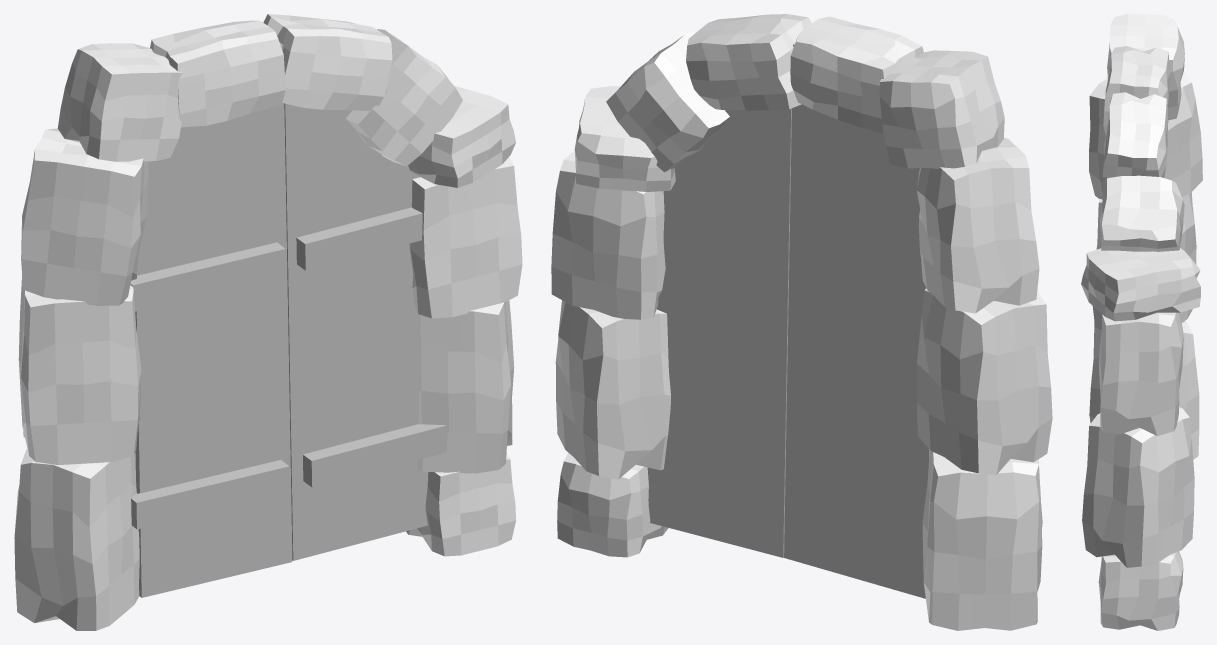
Rendered from Steinbogentor 1.fbx.
The picture shows the model from 3 angles, left to right: view 1: azimuth 30°, elevation 25°; view 2: azimuth 150°, elevation 25°; view 3: azimuth 270°, elevation 25°; orthographic projection. The views are drawn at different scales.
Parts seen in each view (by area): view 1: Steinblock.016; view 2: Steinblock.016; view 3: Steinblock.016.
Boxes of the visible parts, x1,y1,x2,y2 form: Steinblock.016: [14, 14, 522, 630]; Steinblock.016: [551, 14, 1052, 630]; Steinblock.016: [1081, 14, 1202, 630].
Bounding box in the file's own units: 627 × 689 × 165.
